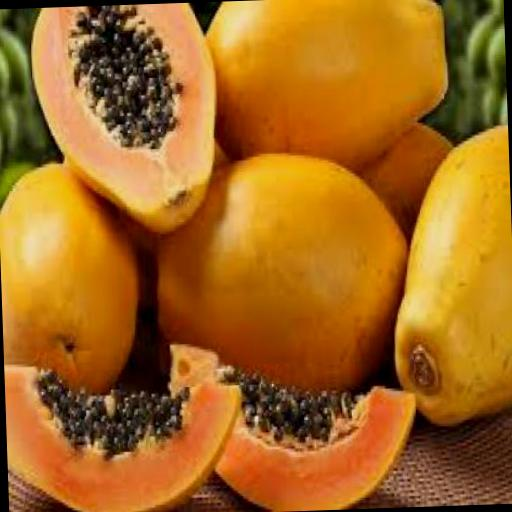biodegradable: (141, 148, 413, 402), (26, 2, 219, 242), (167, 333, 416, 512), (201, 0, 448, 166), (382, 122, 512, 431), (3, 353, 242, 512), (0, 158, 142, 403), (358, 118, 458, 246), (463, 0, 506, 126), (0, 8, 33, 165)
